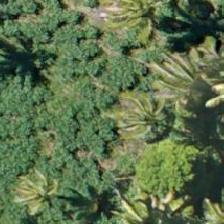coconut_tree: (102, 0, 192, 73), (0, 150, 84, 223)
